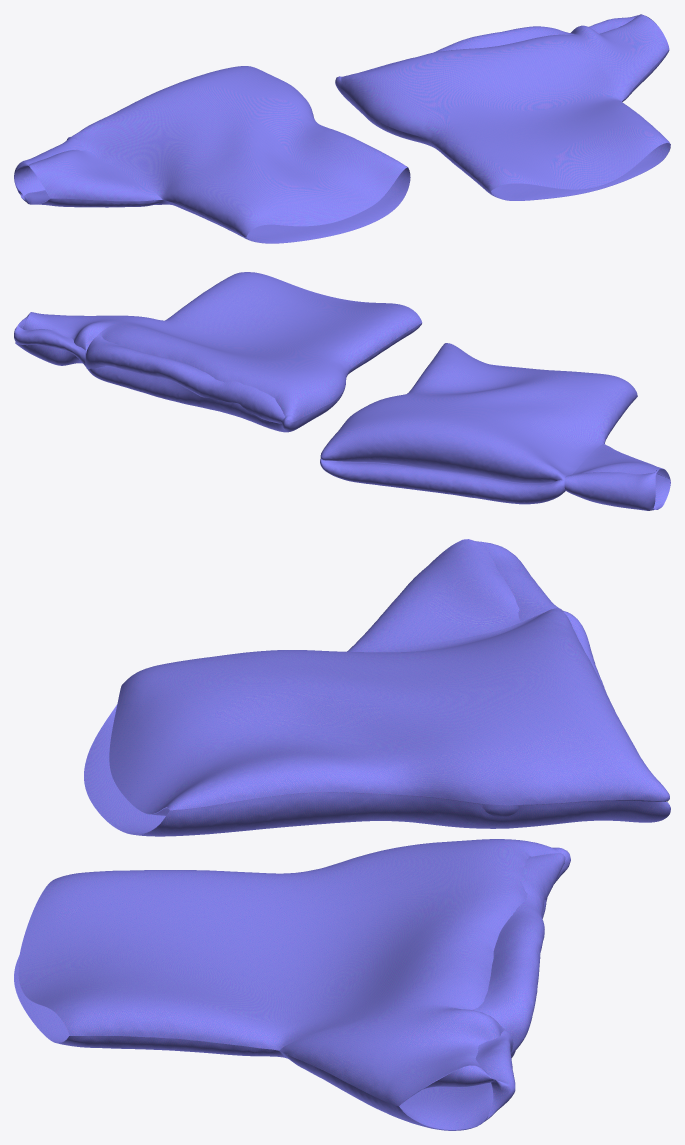
The model's file is UPC.glb.
3 renders of one model, top to bottom at view 1: azimuth 30°, elevation 25°; view 2: azimuth 150°, elevation 25°; view 3: azimuth 270°, elevation 25°, orthographic. The views are drawn at different scales.
Parts seen in each view (by area): view 1: Cloth; view 2: Cloth; view 3: Cloth.
Part boxes in pixels (x1,y1,x2,y2): Cloth: (14, 14, 670, 243); Cloth: (14, 272, 670, 510); Cloth: (14, 539, 670, 1130).
Size of the model in its own units: 1.03 by 0.0871 by 0.5261.
5 materials, 5 textured.
